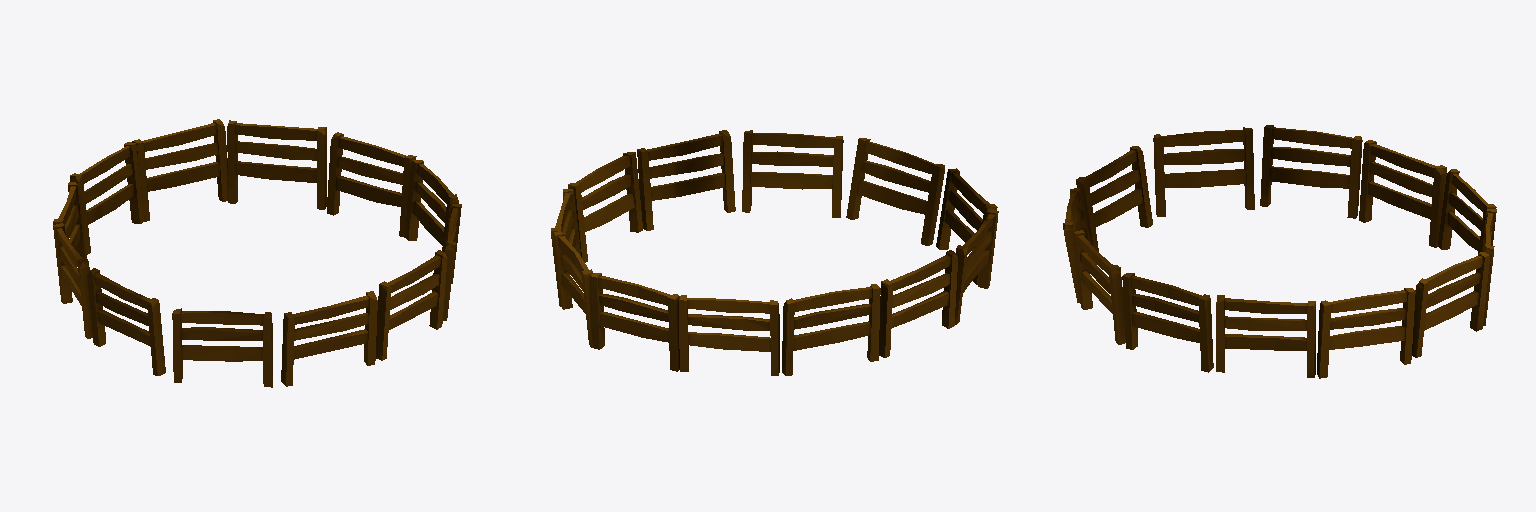
3 views of the same model, side by side, from view 1: azimuth 30°, elevation 25°; view 2: azimuth 150°, elevation 25°; view 3: azimuth 270°, elevation 25° (orthographic).
Parts seen in each view (by area): view 1: Fence.013_Cube.036; view 2: Fence.013_Cube.036; view 3: Fence.013_Cube.036.
Part boxes in pixels (bbox=[...]): Fence.013_Cube.036: bbox=[53, 119, 461, 387]; Fence.013_Cube.036: bbox=[551, 130, 998, 375]; Fence.013_Cube.036: bbox=[1063, 125, 1496, 378].
Bounding box in the file's own units: 5.92 × 1.34 × 6.07.
1 materials, 1 textured.